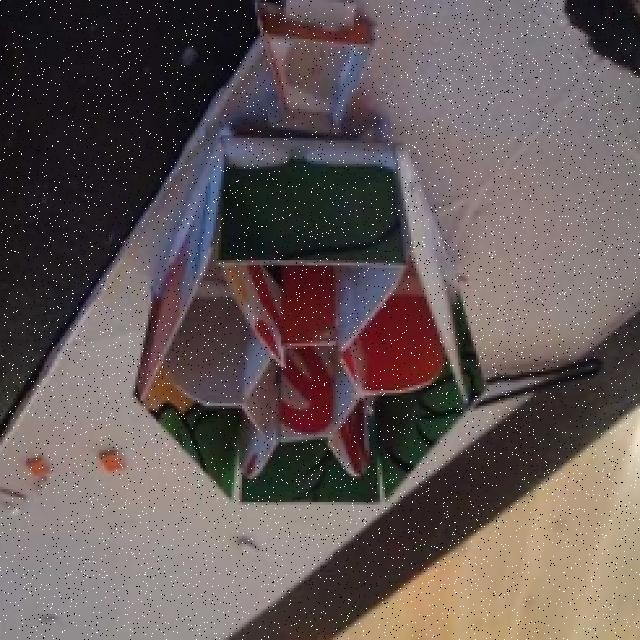box: (126, 130, 517, 520)
